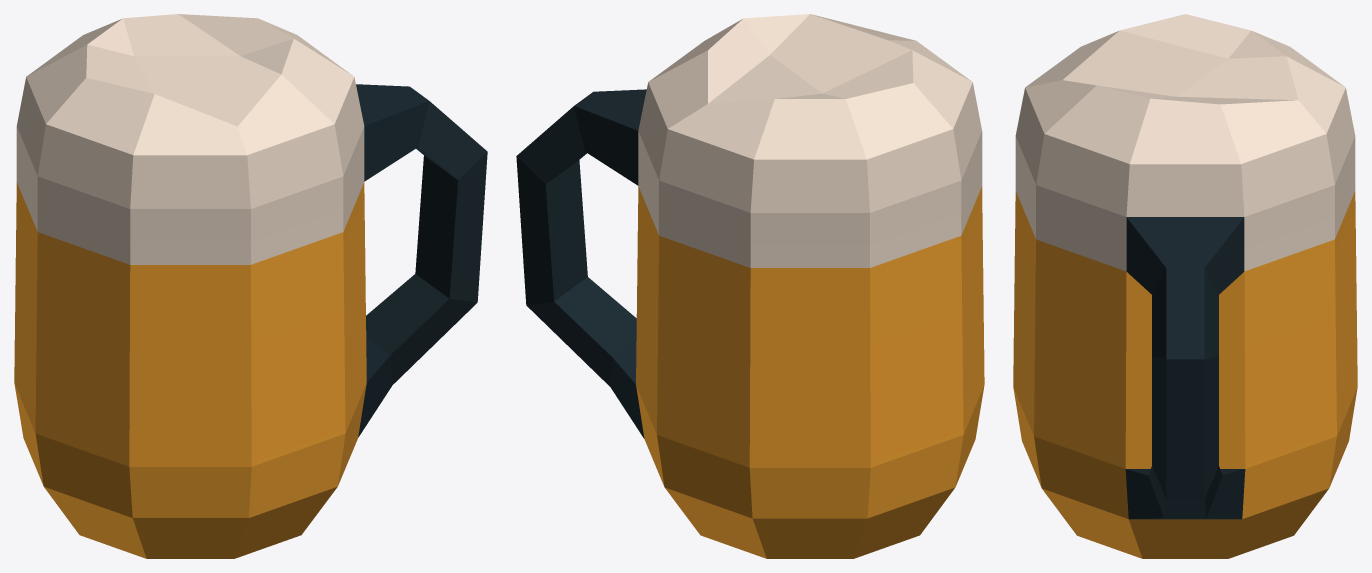
The model's file is beer.glb.
The picture shows the model from 3 angles, left to right: view 1: azimuth 30°, elevation 25°; view 2: azimuth 150°, elevation 25°; view 3: azimuth 270°, elevation 25°; orthographic projection. The views are drawn at different scales.
Visible parts, largest first — view 1: beer; view 2: beer; view 3: beer.
Boxes of the visible parts, x1=… form: beer: x1=14, y1=14, x2=487, y2=558; beer: x1=516, y1=14, x2=984, y2=558; beer: x1=1013, y1=14, x2=1357, y2=558.
Size of the model in its own units: 0.2388 by 0.2382 by 0.1648.
1 material, 1 textured.
